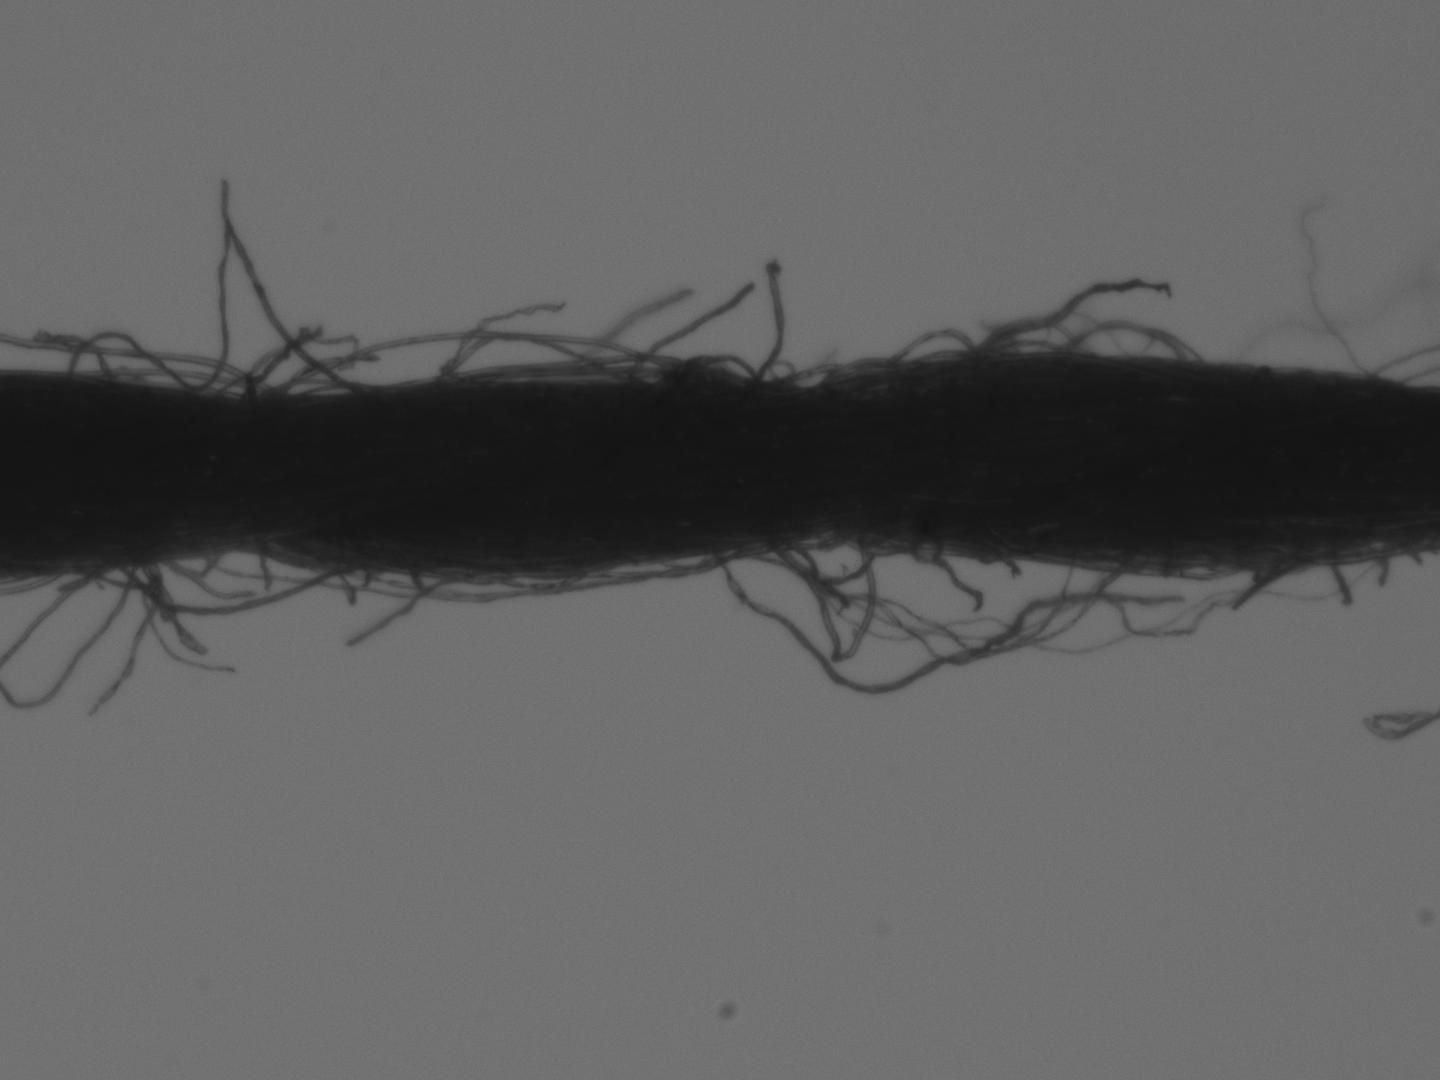loop_fiber: (58, 174, 382, 415), (104, 532, 378, 619), (433, 330, 617, 382), (1049, 313, 1202, 374), (768, 514, 879, 590), (643, 345, 759, 402), (883, 321, 994, 368)
protruding_fiber: (975, 277, 1184, 358), (743, 252, 786, 383)
